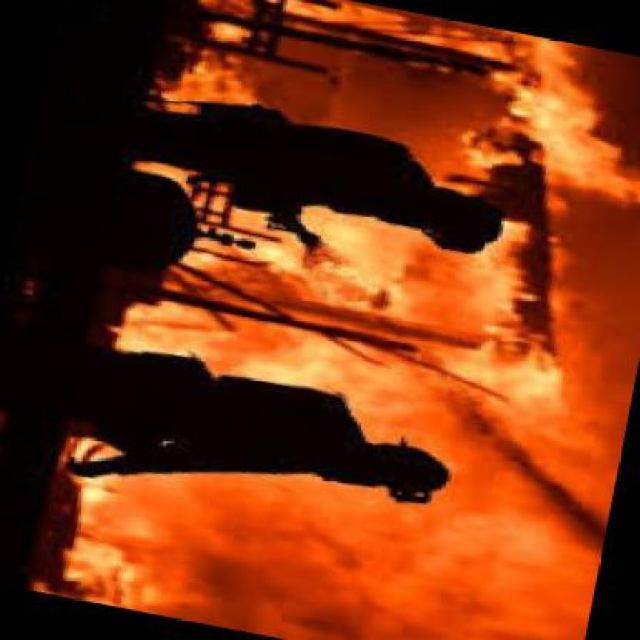Fire: (193, 216, 556, 428), (502, 34, 640, 220), (59, 466, 238, 602), (434, 502, 596, 632), (301, 3, 500, 71), (155, 0, 255, 108)
